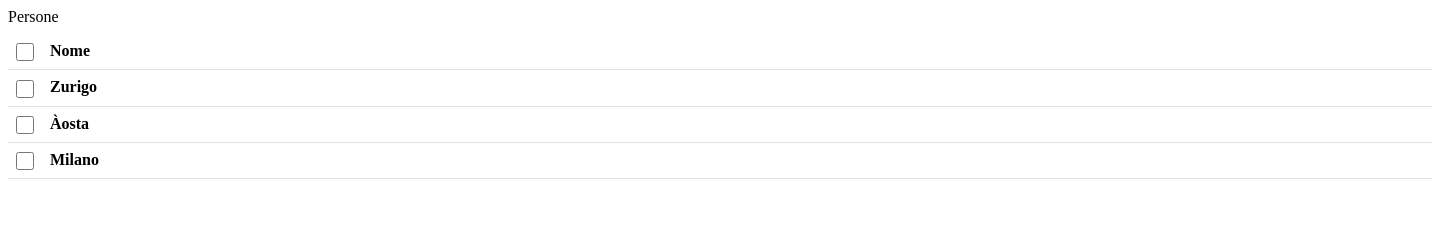
Test: the table toolbar › takes everything matching, all the way through
The image size is (1440, 246).
Click the checkbox named "Select all rows". click: (25, 52)
box: [16,43,34,61]
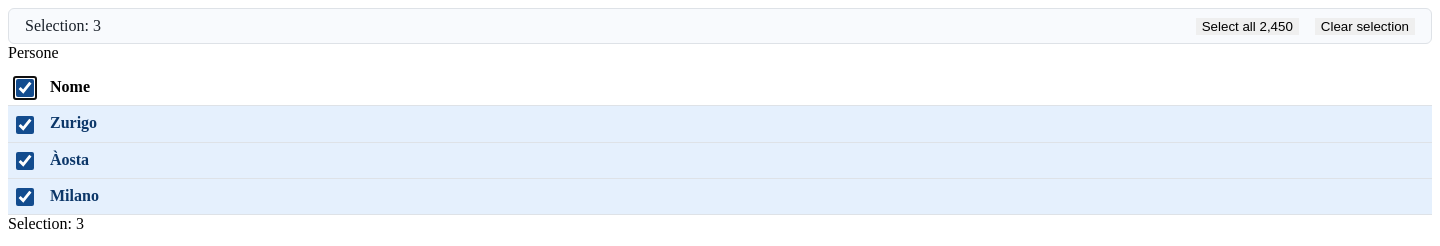
Now the element showing "Selection: 3" is shown, box [17,17,101,35]
Click the button "Select all 2,450". click: (1247, 26)
box: [1196,18,1299,34]
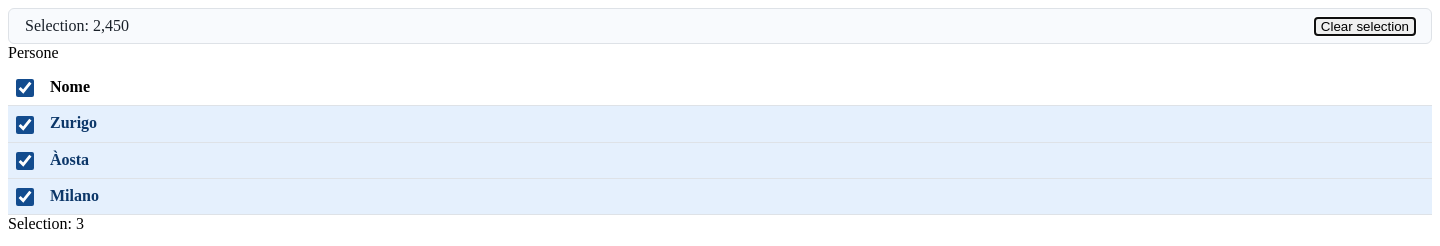
Now the checkbox named "Select Milano" is checked, box [16,188,34,206]
Now the element showing "Selection: 2,450" is shown, box [17,17,129,35]
